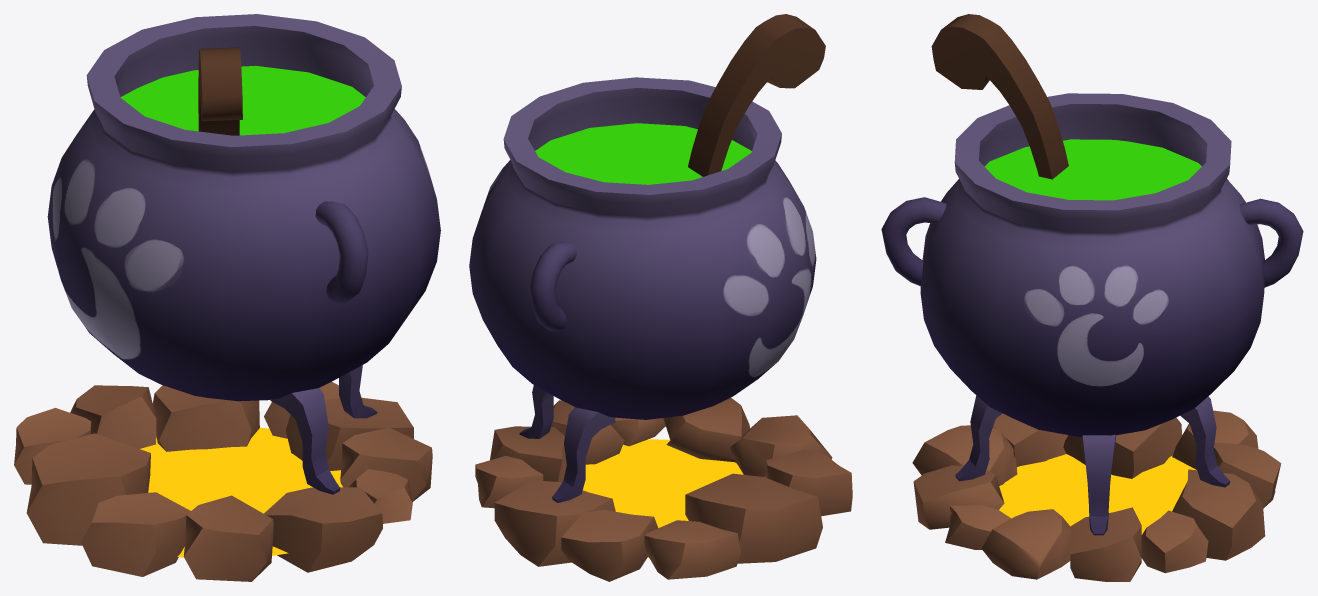
File: Caldero_v2.fbx
3 views of the same model, side by side, from view 1: azimuth 30°, elevation 25°; view 2: azimuth 150°, elevation 25°; view 3: azimuth 270°, elevation 25° (orthographic). The views are drawn at different scales.
Parts seen in each view (by area): view 1: Caldero1, Brebaje1, Piedra2, Fuego, Piedra7, Piedra3, Piedra4, Piedra9, Piedra5, Piedra8, Cuchara, Piedra11 (+6 smaller); view 2: Caldero1, Cuchara, Piedra2, Brebaje1, Fuego, Piedra9, Piedra8, Piedra1, Piedra7, Piedra3, Piedra4, Piedra11 (+6 smaller); view 3: Caldero1, Cuchara, Brebaje1, Fuego, Piedra9, Piedra5, Piedra11, Piedra7, Piedra2, Piedra10, Piedra4, Manija1 (+8 smaller).
Boxes of the visible parts, bbox=[...] form: Caldero1: bbox=[47, 14, 440, 401]; Brebaje1: bbox=[120, 66, 365, 135]; Piedra2: bbox=[26, 433, 150, 545]; Fuego: bbox=[140, 427, 342, 557]; Piedra7: bbox=[264, 487, 382, 572]; Piedra3: bbox=[81, 492, 190, 576]; Piedra4: bbox=[183, 495, 273, 581]; Piedra9: bbox=[152, 385, 259, 451]; Piedra5: bbox=[340, 427, 432, 501]; Piedra8: bbox=[70, 385, 156, 448]; Cuchara: bbox=[198, 47, 242, 135]; Piedra11: bbox=[285, 397, 413, 470]; Caldero1: bbox=[469, 77, 816, 419]; Cuchara: bbox=[688, 14, 825, 176]; Piedra2: bbox=[685, 473, 822, 563]; Brebaje1: bbox=[535, 123, 751, 184]; Fuego: bbox=[583, 439, 743, 557]; Piedra9: bbox=[494, 480, 615, 566]; Piedra8: bbox=[561, 510, 657, 581]; Piedra1: bbox=[644, 520, 741, 579]; Piedra7: bbox=[663, 397, 749, 462]; Piedra3: bbox=[765, 449, 852, 516]; Piedra4: bbox=[730, 415, 832, 477]; Piedra11: bbox=[490, 426, 566, 482]; Caldero1: bbox=[920, 93, 1264, 436]; Cuchara: bbox=[931, 14, 1068, 179]; Brebaje1: bbox=[984, 139, 1201, 200]; Fuego: bbox=[999, 454, 1196, 534]; Piedra9: bbox=[1172, 469, 1265, 560]; Piedra5: bbox=[981, 509, 1070, 579]; Piedra11: bbox=[1070, 507, 1141, 581]; Piedra7: bbox=[913, 465, 1004, 529]; Piedra2: bbox=[1063, 417, 1181, 478]; Piedra10: bbox=[1141, 510, 1208, 573]; Piedra4: bbox=[912, 425, 1017, 485]; Manija1: bbox=[881, 197, 946, 286].
Bounding box in the file's own units: 2.02 × 2.67 × 2.2.
